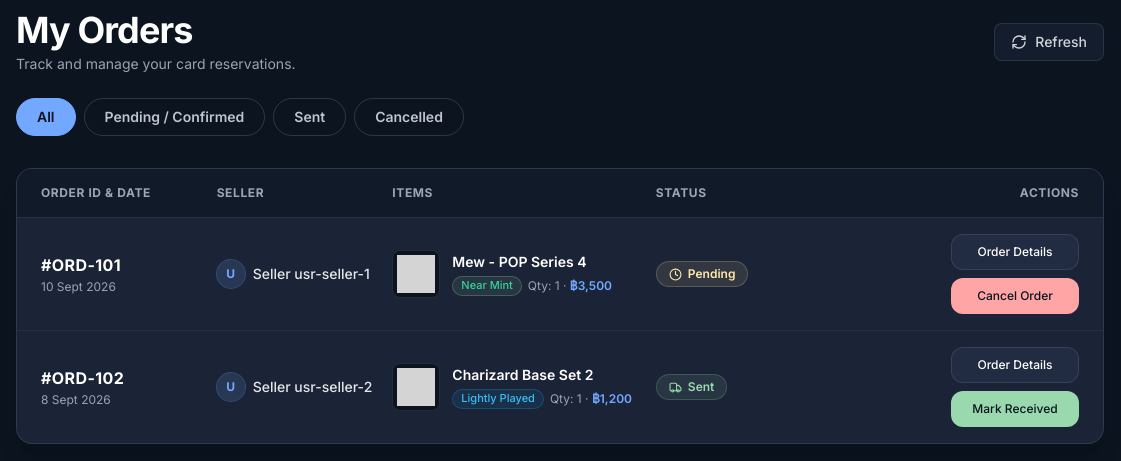
Test: MyOrdersPage (SCRUM-80) › allows marking order as received from Sent order
Expected: the text "#ORD-102" is shown, 41,368 -> 124,388
Click the button "Mark Received". click: (1015, 409)
box: 951,391 -> 1079,427
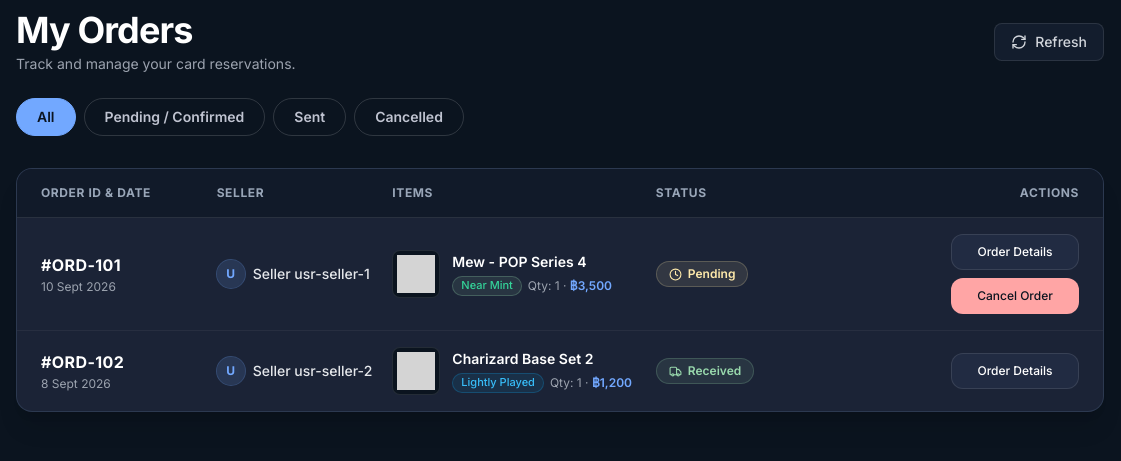
Expected: the button "Mark Received" is gone
